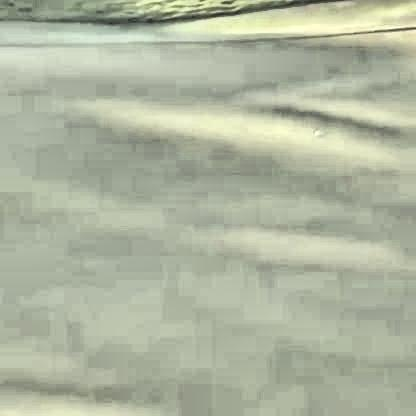golfball: (310, 127, 317, 134)
